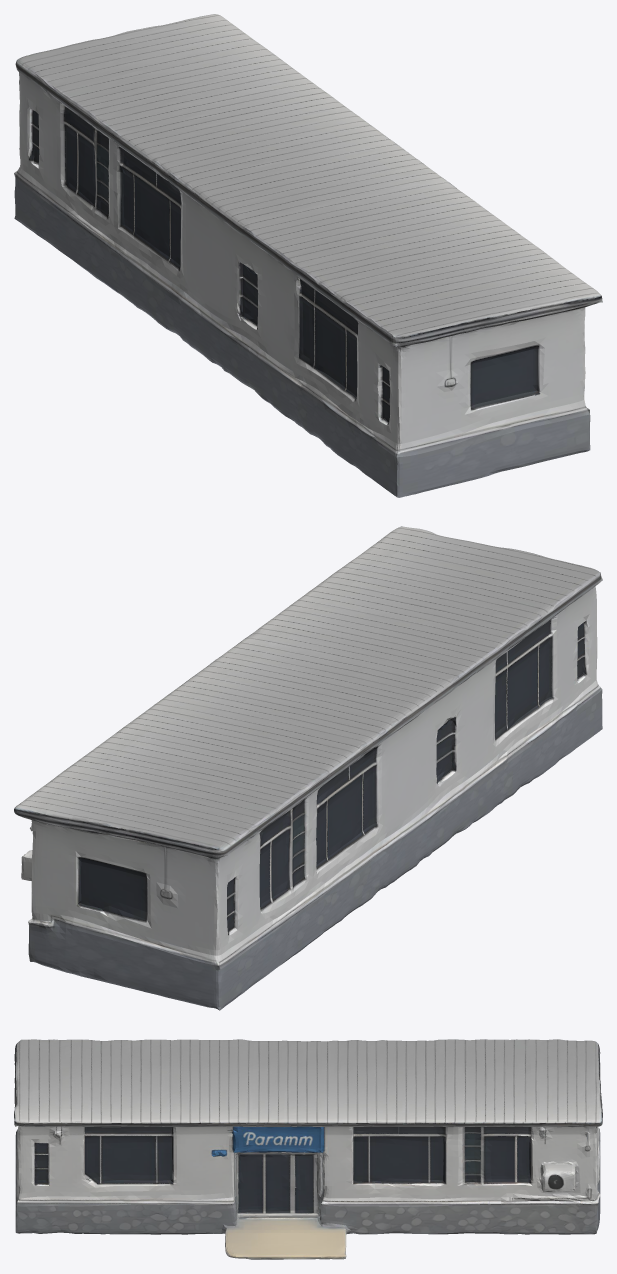
The model's file is Param.glb.
The picture shows the model from 3 angles, top to bottom: view 1: azimuth 30°, elevation 25°; view 2: azimuth 150°, elevation 25°; view 3: azimuth 270°, elevation 25°; orthographic projection. The views are drawn at different scales.
Parts seen in each view (by area): view 1: tripo_node_7fec18f9-7ab8-4059-a023-7c0dfea1ffdc; view 2: tripo_node_7fec18f9-7ab8-4059-a023-7c0dfea1ffdc; view 3: tripo_node_7fec18f9-7ab8-4059-a023-7c0dfea1ffdc.
Boxes of the visible parts, box(x1,y1,x2,y2) form: tripo_node_7fec18f9-7ab8-4059-a023-7c0dfea1ffdc: box(14, 14, 602, 497); tripo_node_7fec18f9-7ab8-4059-a023-7c0dfea1ffdc: box(14, 526, 602, 1010); tripo_node_7fec18f9-7ab8-4059-a023-7c0dfea1ffdc: box(14, 1039, 602, 1259).
Size of the model in its own units: 0.3918 by 0.2318 by 0.9989.
Materials: 1 (1 with a texture image).
